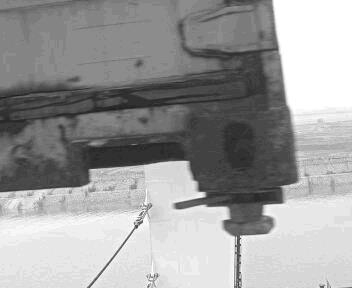twist_lock_1: (227, 180, 319, 241)
